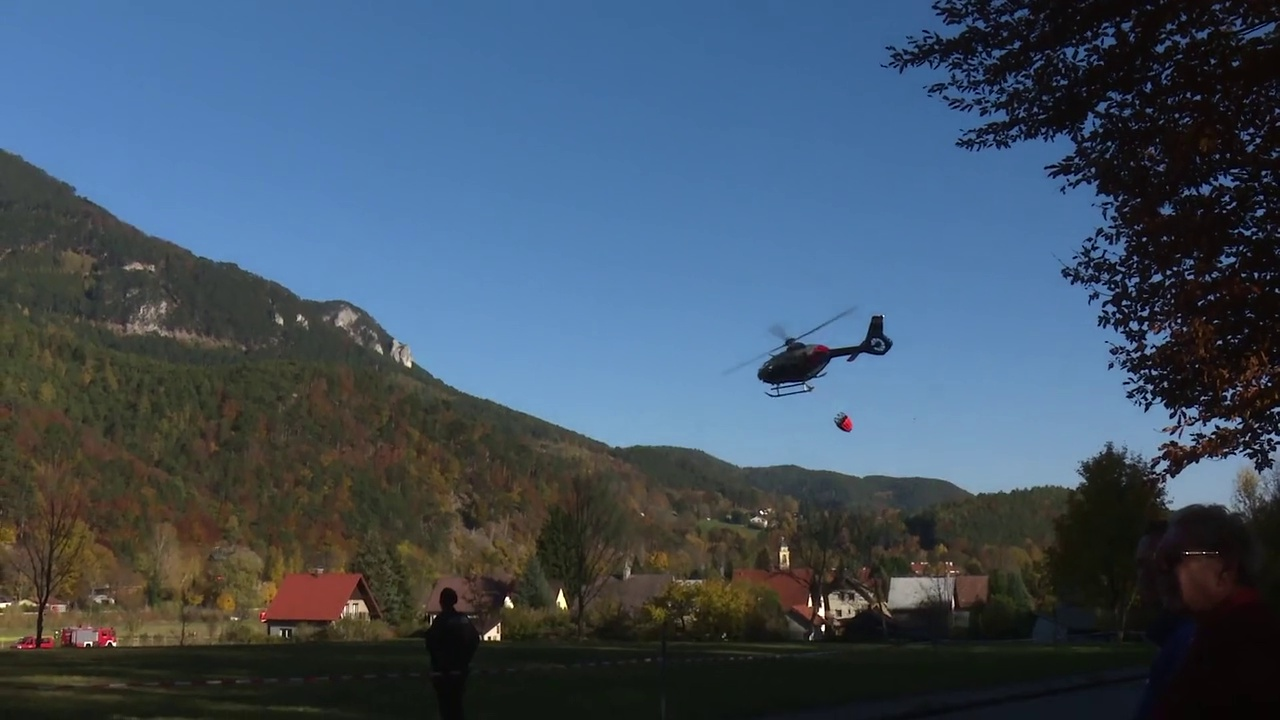heli: (730, 310, 892, 398)
